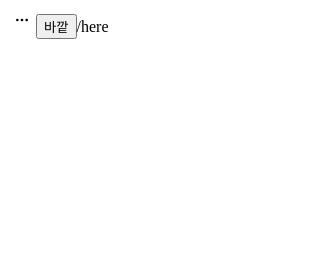
여닫기 › 단추를 누르면 메뉴가 열리고 첫 항목에 포커스가 간다 — 끈 항목이어도
Click the button named "더 보기" at coordinates (22, 20), box top-left (8, 8), bottom-right (36, 32)
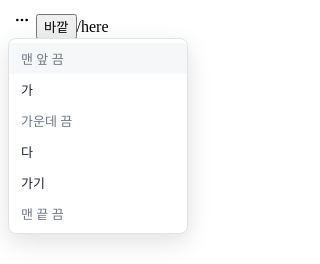
Result: the menu is shown at top-left (9, 43), bottom-right (187, 229)
Result: the menu items read "맨 앞 끔", "가", "가운데 끔", "다", "가기", "맨 끝 끔", in this order at top-left (9, 43), bottom-right (187, 74); top-left (9, 74), bottom-right (187, 105); top-left (9, 105), bottom-right (187, 136); top-left (9, 136), bottom-right (187, 167); top-left (21, 174), bottom-right (45, 192); top-left (9, 198), bottom-right (187, 229)
Result: the menu item "맨 앞 끔" is shown at top-left (9, 43), bottom-right (187, 74)
